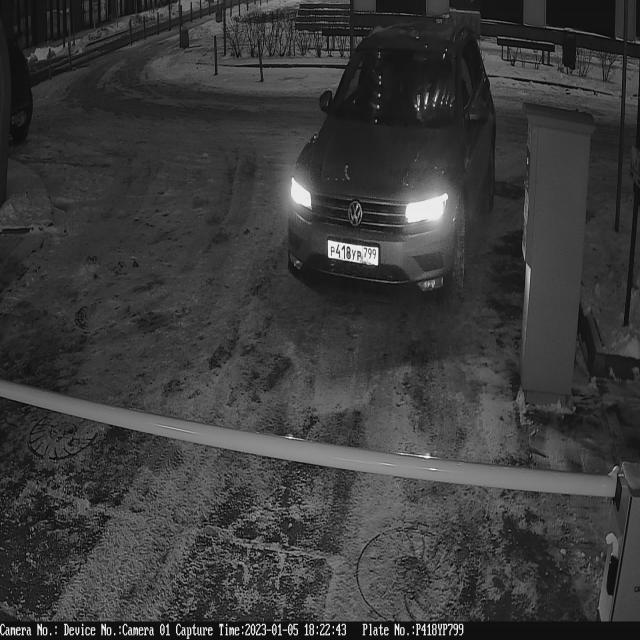car-plate-numbers: (326, 234, 381, 272)
